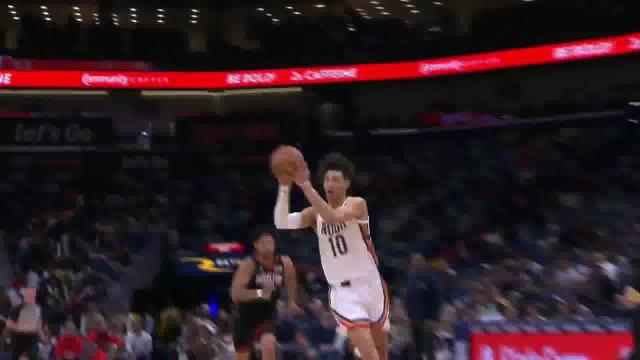ball-handler: (266, 141, 391, 360)
player: (232, 230, 299, 360)
